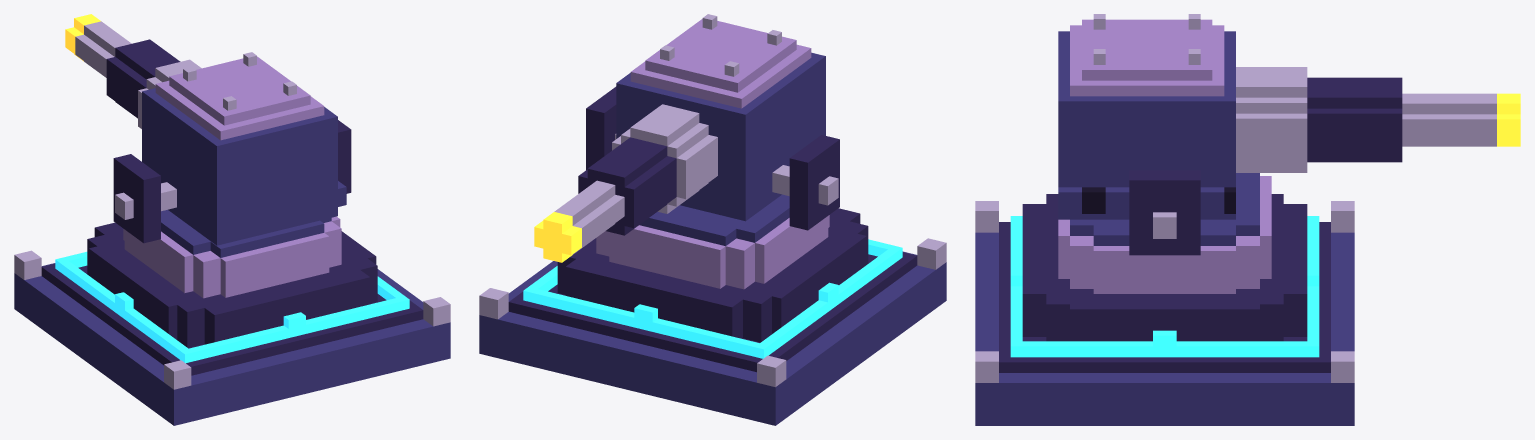
Rendered from mining-laser.md.glb.
3 renders of one model, left to right at view 1: azimuth 30°, elevation 25°; view 2: azimuth 150°, elevation 25°; view 3: azimuth 270°, elevation 25°, orthographic. The views are drawn at different scales.
Parts seen in each view (by area): view 1: mining-laser.md; view 2: mining-laser.md; view 3: mining-laser.md.
Part boxes in pixels (left/top/right/bottom): mining-laser.md: left=14, top=14, right=450, bottom=425; mining-laser.md: left=479, top=14, right=946, bottom=425; mining-laser.md: left=975, top=14, right=1520, bottom=425.
Size of the model in its own units: 2 by 1.81 by 2.88.
